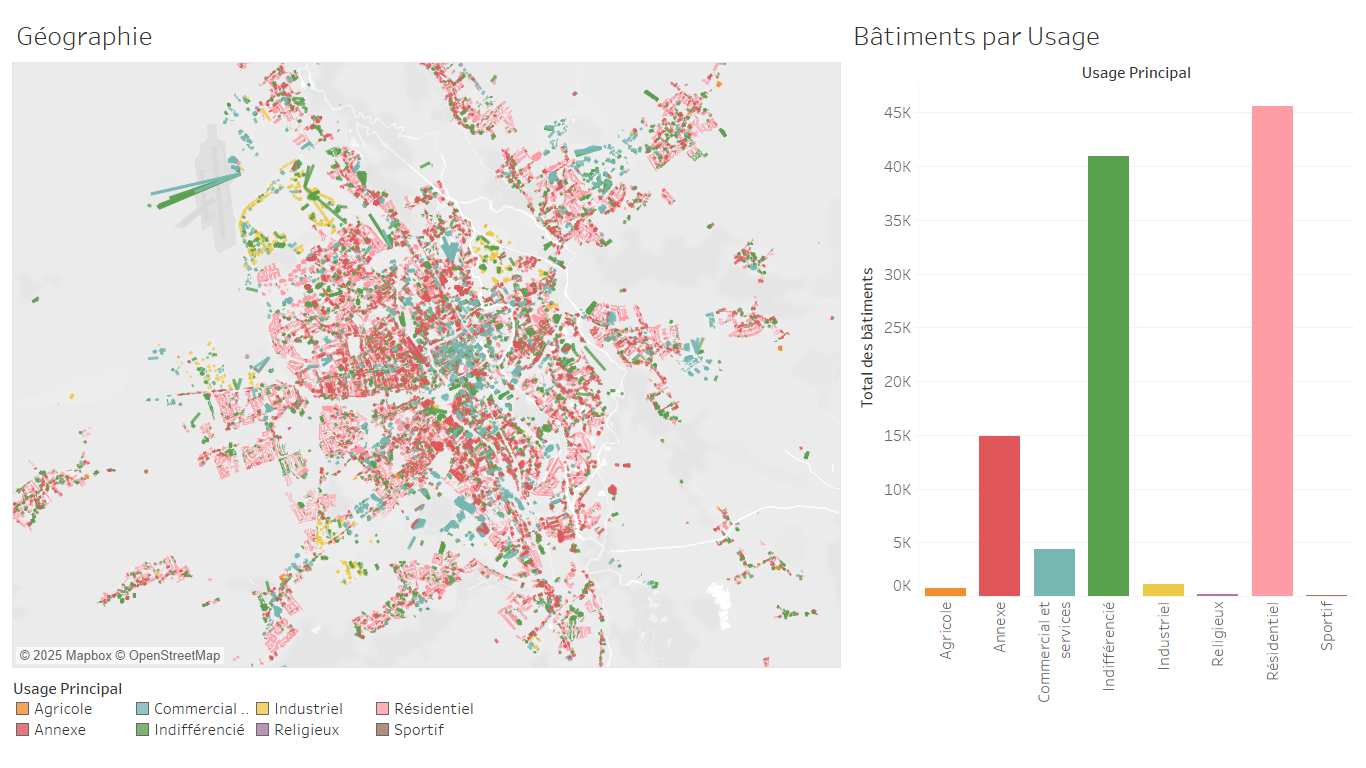

The page's visual inventory and layout, read from the dashboard file:
{"tool":"tableau","page":{"name":"5. Relation usage/géographie","canvas":[1366,768],"ordinal":0},"visuals":[{"type":"worksheet","title":"Géographie","mark":"Automatic","box":[8,8,837,664]},{"type":"worksheet","title":"Bâtiments par Usage","mark":"Automatic","rows":["batiments_troyes_coords.csv_16EAE4C632EA41B6B3DD1007D1C829B7"],"cols":["USAGE1"],"box":[845,8,513,752]},{"type":"legend","title":"Géographie","param":"[federated.06mmn4317dj143168h6sd1fldljp].[none:USAGE1:nk]","box":[8,672,837,88]}]}

Visuals, with their boxes in screenshot pixels (x1, y1, x2, y2), scaled from the page's 1366x768 canvas onto the 1366x768 screenshot:
"Géographie" worksheet: box=[8, 8, 845, 672]
"Bâtiments par Usage" worksheet: box=[845, 8, 1358, 760]
"Géographie" legend: box=[8, 672, 845, 760]
